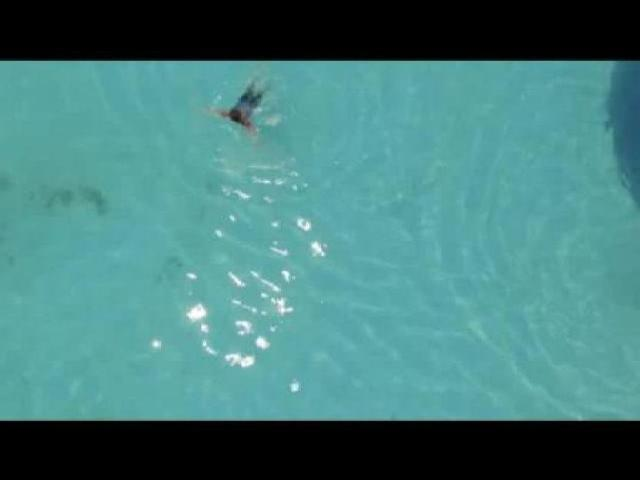swimming: (192, 72, 292, 134)
